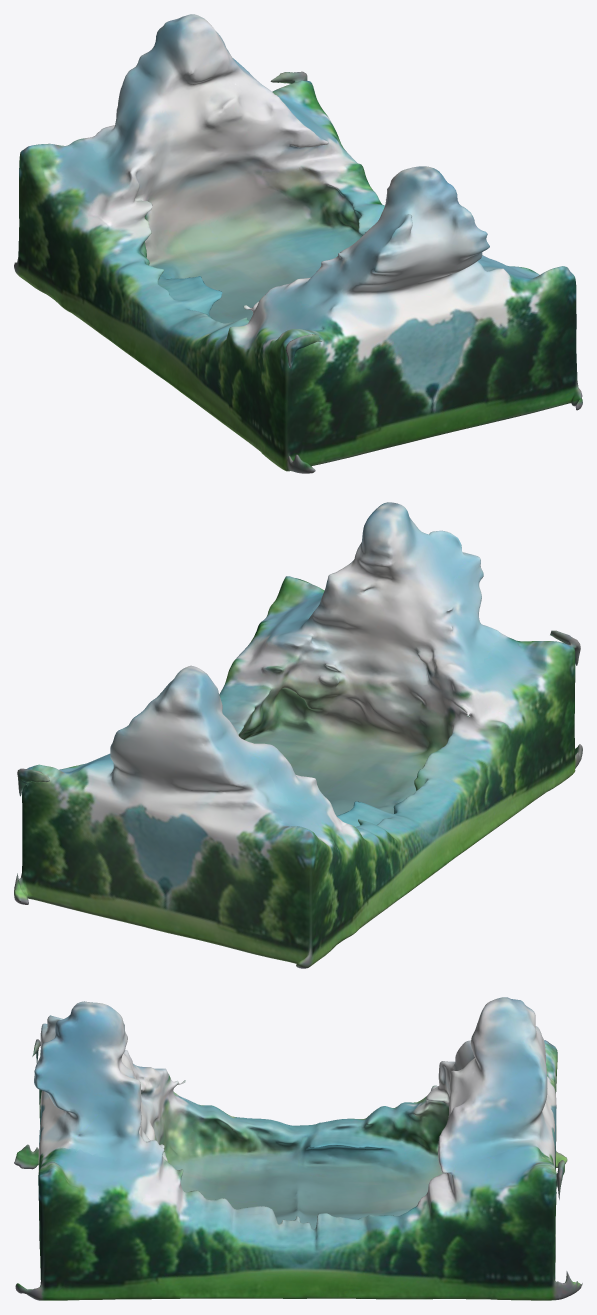
File: daytime_skybox.glb
3 renders of one model, top to bottom at view 1: azimuth 30°, elevation 25°; view 2: azimuth 150°, elevation 25°; view 3: azimuth 270°, elevation 25°, orthographic. The views are drawn at different scales.
Visible parts, largest first — view 1: tripo_node_26e1d182-25c8-4982-91da-c2cf09043ef0; view 2: tripo_node_26e1d182-25c8-4982-91da-c2cf09043ef0; view 3: tripo_node_26e1d182-25c8-4982-91da-c2cf09043ef0.
Part boxes in pixels (x1,y1,x2,y2): tripo_node_26e1d182-25c8-4982-91da-c2cf09043ef0: (14, 14, 582, 473); tripo_node_26e1d182-25c8-4982-91da-c2cf09043ef0: (14, 502, 582, 968); tripo_node_26e1d182-25c8-4982-91da-c2cf09043ef0: (14, 997, 582, 1300).
Bounding box in the file's own units: 0.5324 × 0.4254 × 0.9266.
Materials: 1 (1 with a texture image).
